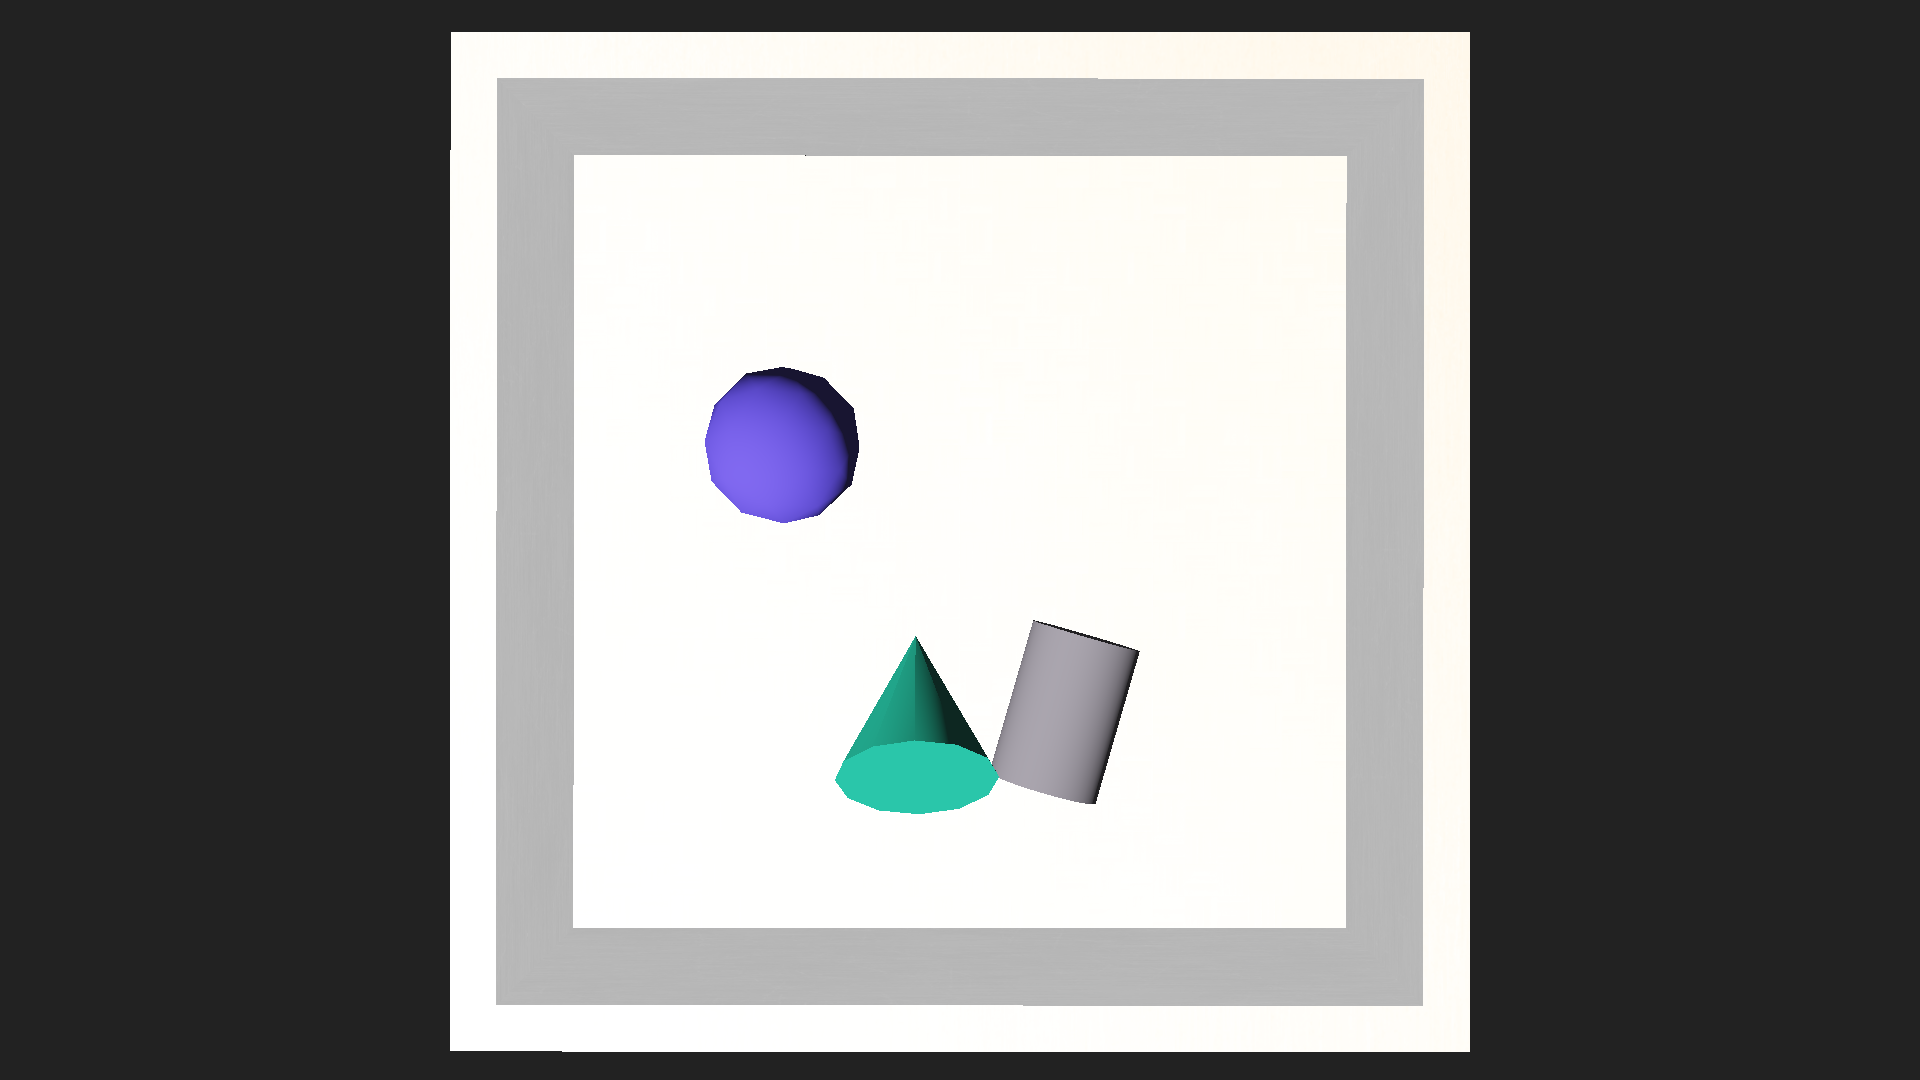cone: (989, 617, 1143, 808)
cylinder: (836, 593, 993, 825)
sphere: (702, 364, 862, 524)
